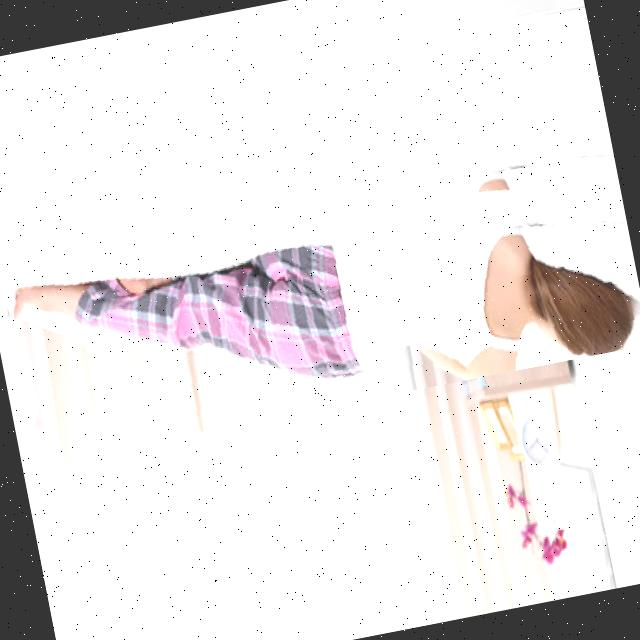people: (0, 113, 640, 464)
